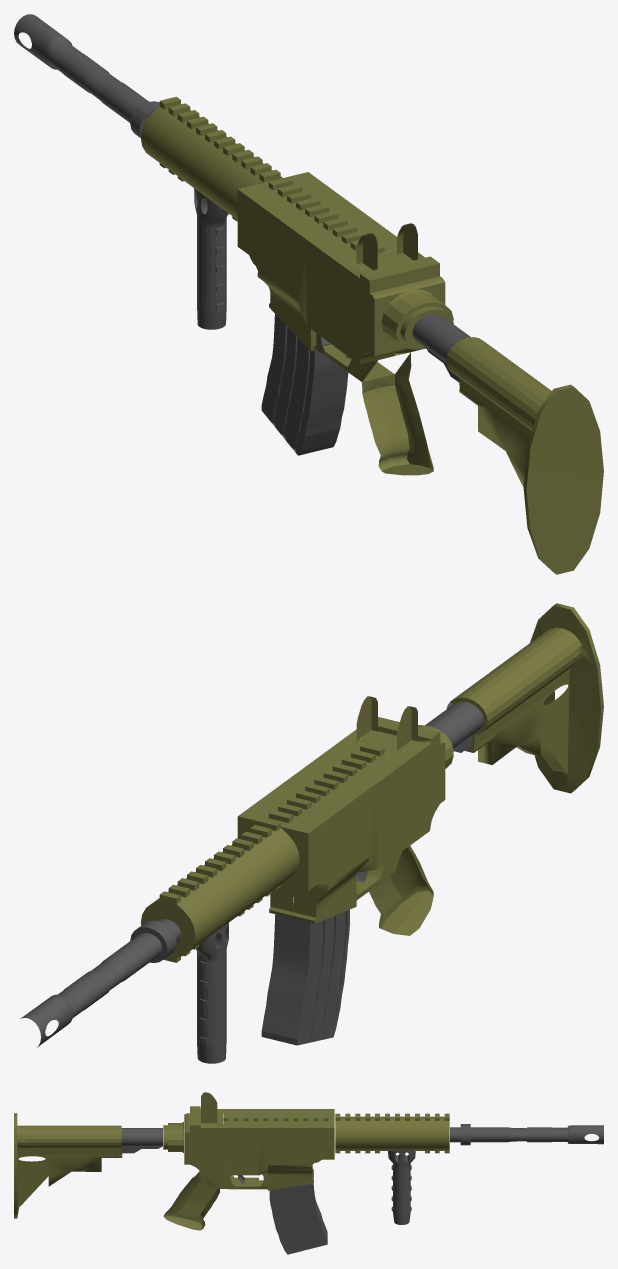
The model's file is MachineGun.glb.
3 renders of one model, top to bottom at view 1: azimuth 30°, elevation 25°; view 2: azimuth 150°, elevation 25°; view 3: azimuth 270°, elevation 25°, orthographic. The views are drawn at different scales.
Visible parts, largest first — view 1: pCube14; view 2: pCube14; view 3: pCube14.
Boxes of the visible parts, box(x1,y1,x2,y2) form: pCube14: box(14, 14, 603, 574); pCube14: box(20, 603, 603, 1063); pCube14: box(14, 1092, 603, 1254).
Bounding box in the file's own units: 0.4673 × 1.59 × 5.62.
